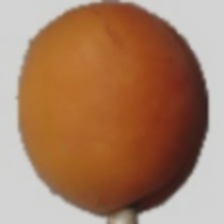apricot: (4, 24, 187, 224)
